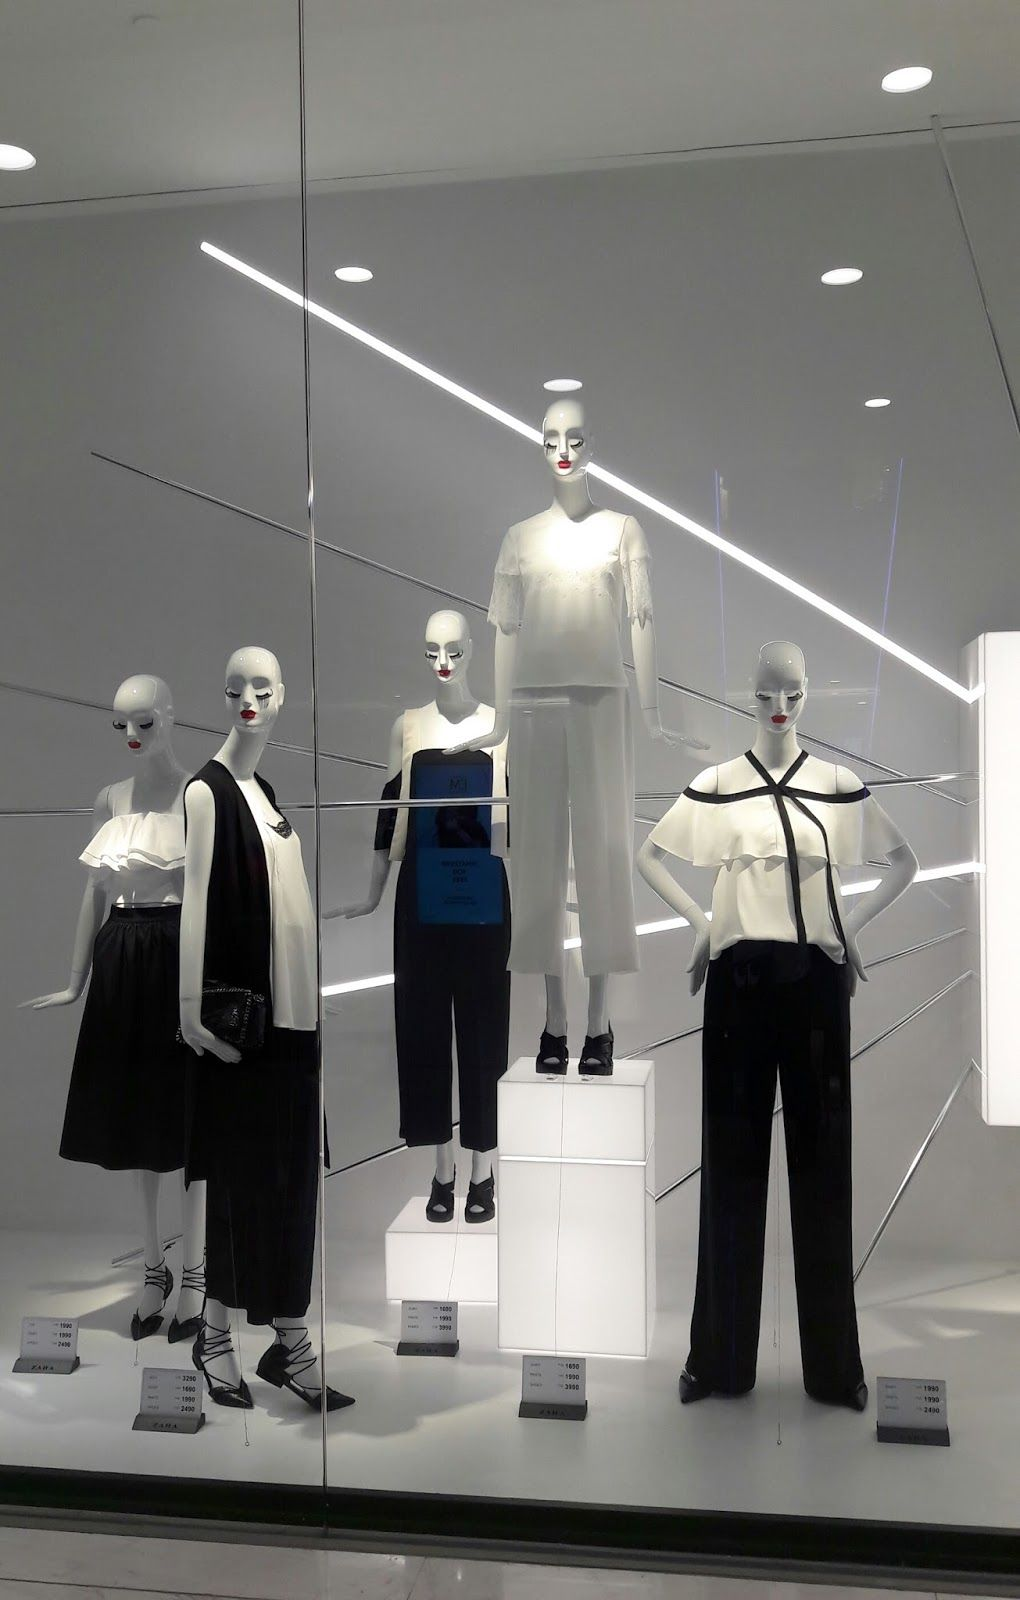person-like: (629, 630, 923, 1424), (432, 387, 669, 1082), (167, 640, 364, 1424), (11, 668, 209, 1351), (322, 602, 515, 1230)
